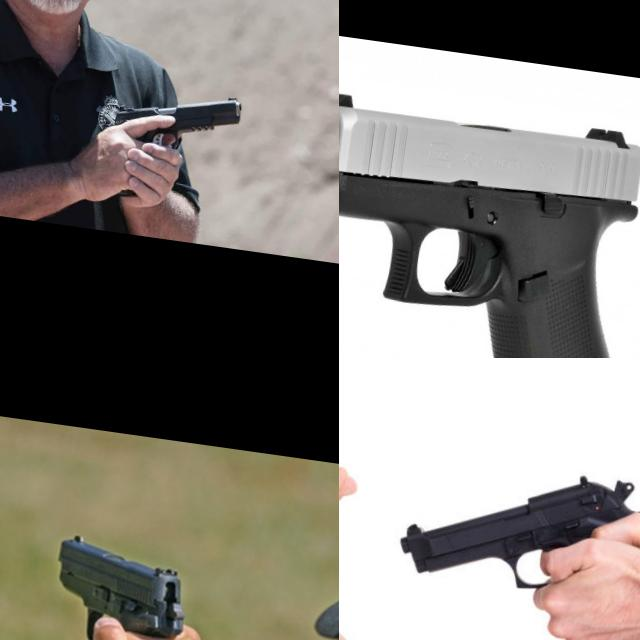handgun: (339, 85, 640, 358), (389, 443, 640, 605), (44, 530, 197, 640), (110, 76, 248, 160)
